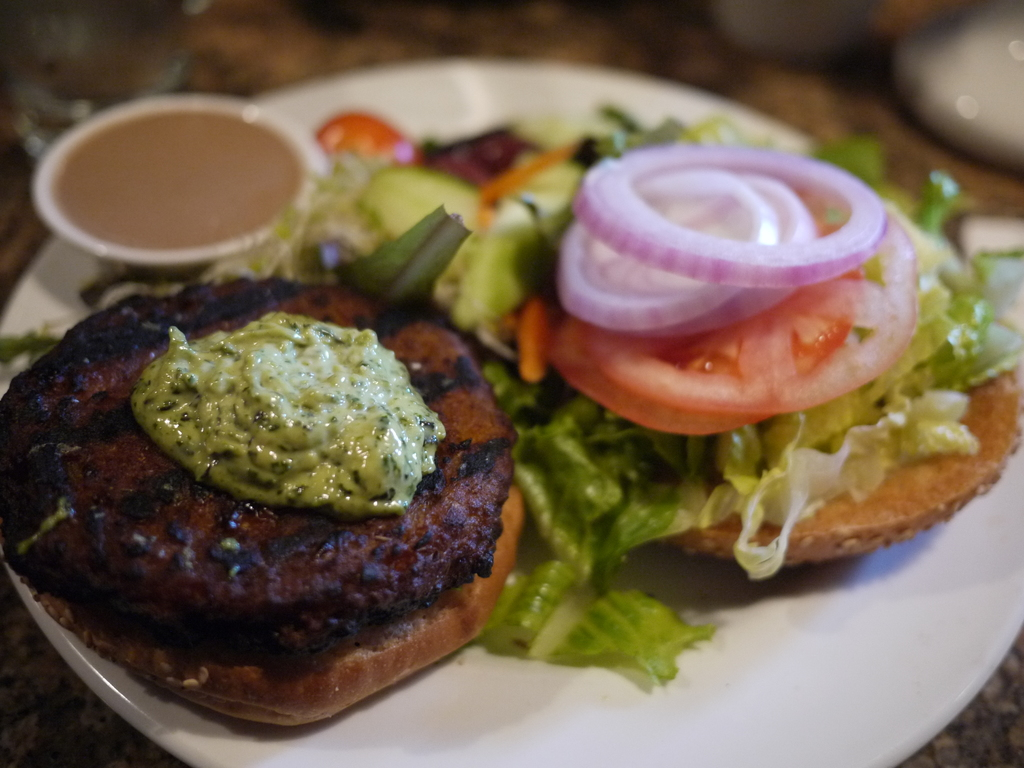Hamburger: (0, 149, 1023, 728)
